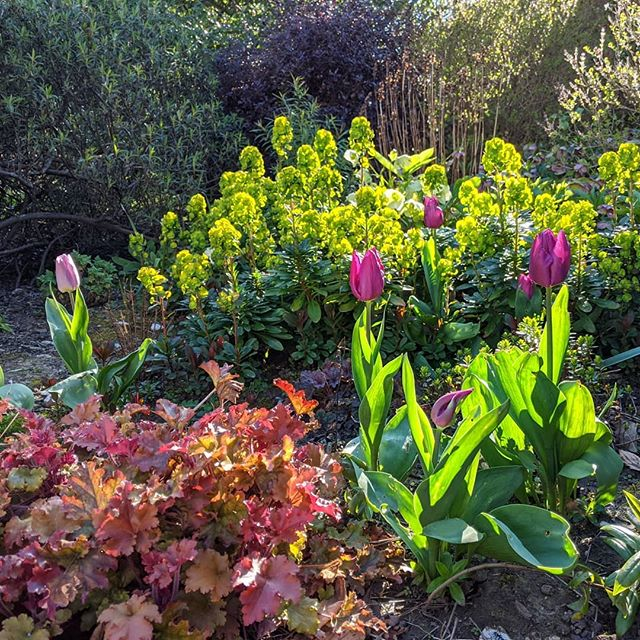flowers: (10, 201, 640, 640)
vegetation: (1, 1, 618, 191)
